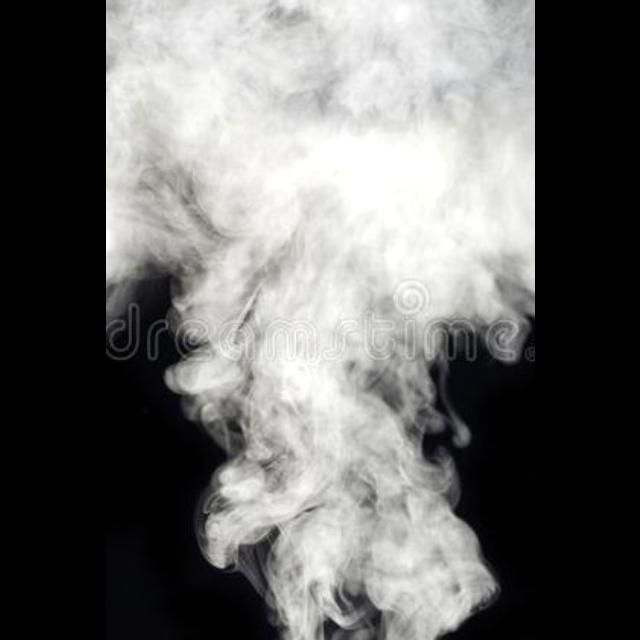smoke: (105, 0, 535, 640)
